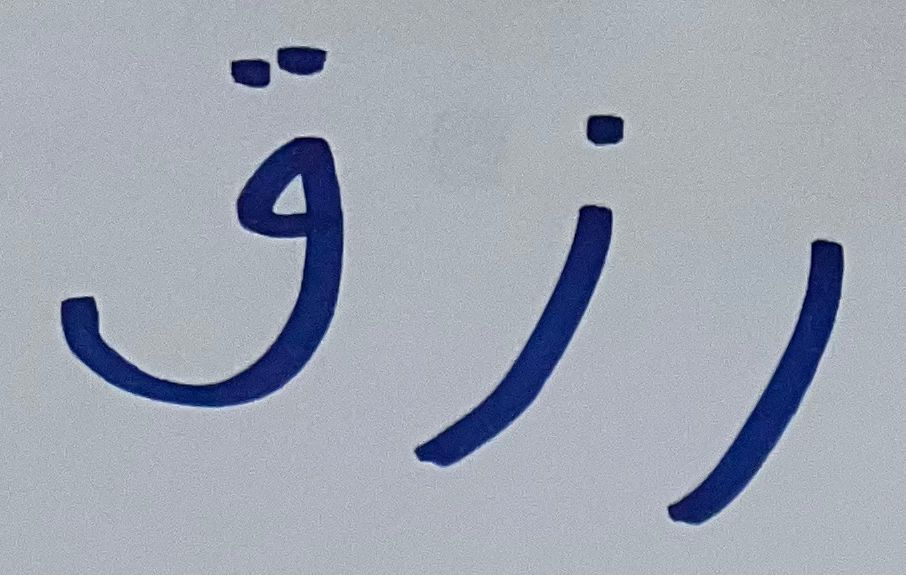qaf: (52, 14, 377, 427)
reh: (411, 88, 644, 477), (657, 168, 861, 539)
